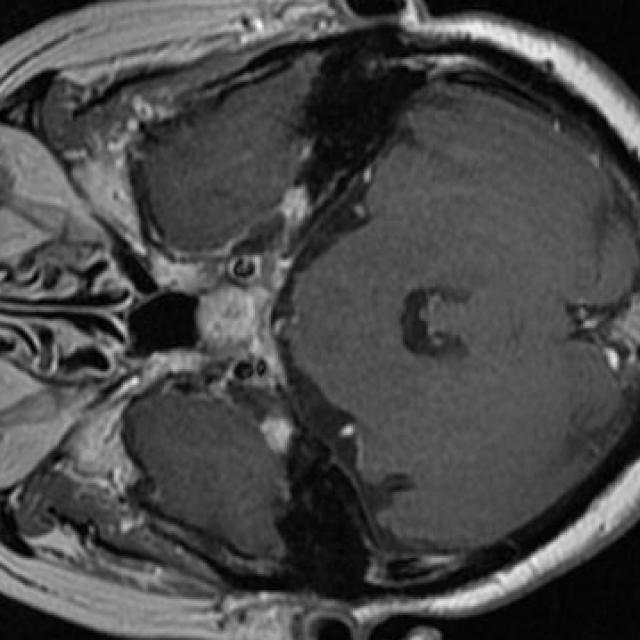pituitary: (198, 287, 258, 349)
